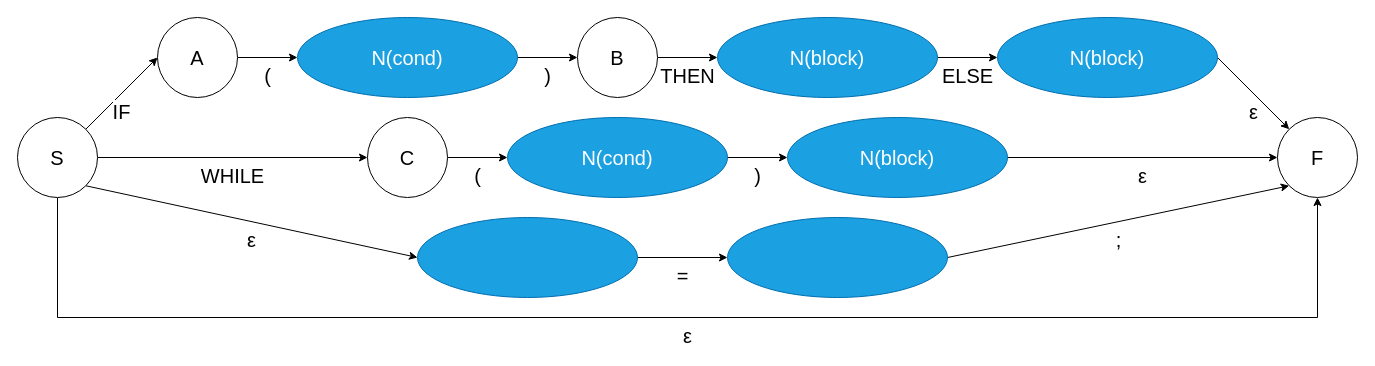
This 1375x366 diagram has some shape labels left out. The shapes that lost their labels are listed below. From the top down, each one's centre as x and y in pixels, then its label:
At pixel 527 257: "N(word)".
At pixel 837 257: "N(expr)".
